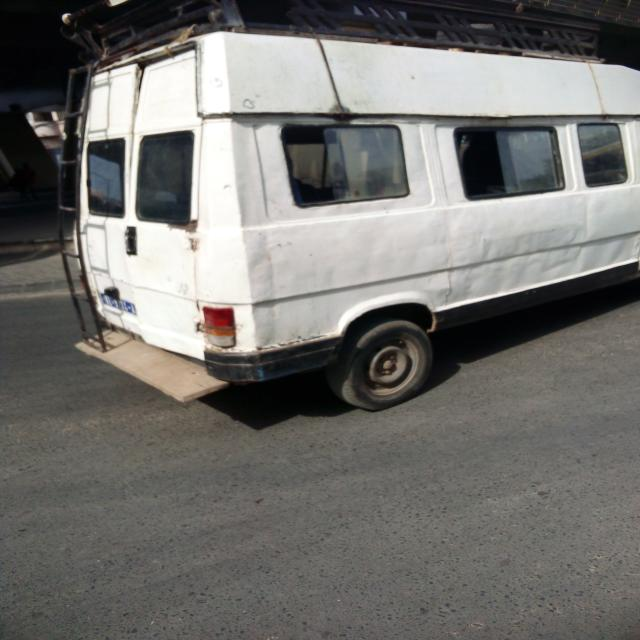ndiaga ndiaye: (43, 1, 640, 411)
